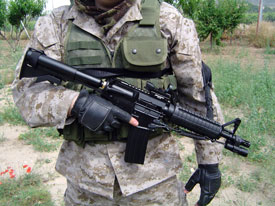Arma Real: (20, 45, 252, 163)
